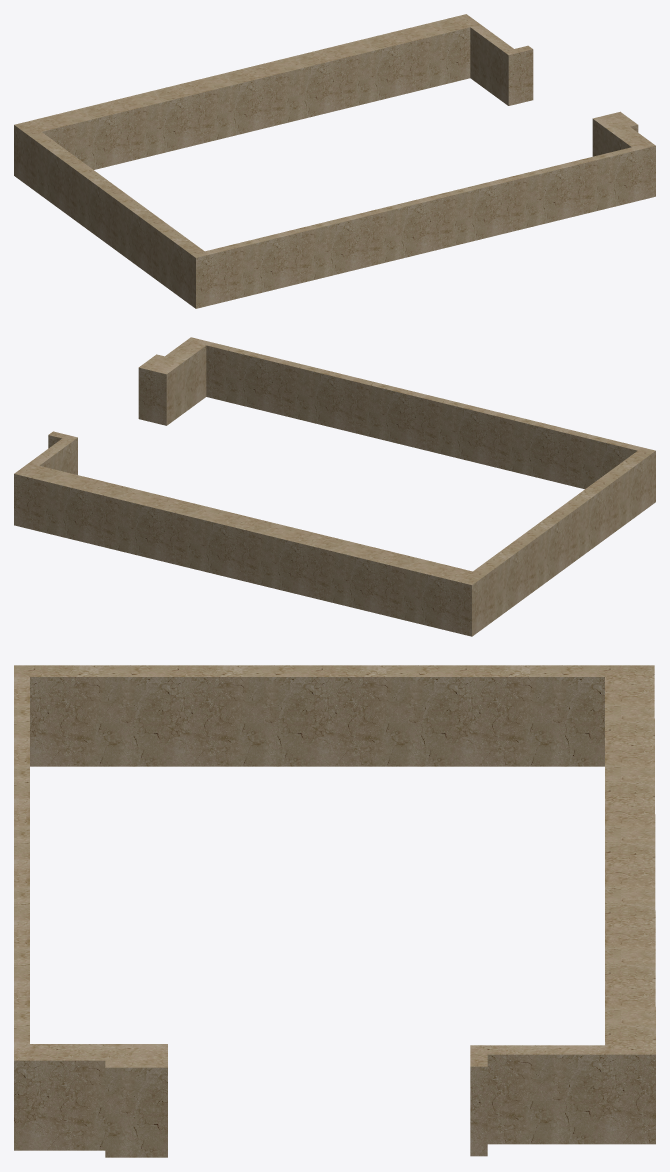
File: pasted__stone_column_976.fbx
3 renders of one model, top to bottom at view 1: azimuth 30°, elevation 25°; view 2: azimuth 150°, elevation 25°; view 3: azimuth 270°, elevation 25°, orthographic. The views are drawn at different scales.
Parts seen in each view (by area): view 1: pasted__stone_column_976; view 2: pasted__stone_column_976; view 3: pasted__stone_column_976.
Part boxes in pixels (x1,y1,x2,y2): pasted__stone_column_976: (14, 14, 655, 308); pasted__stone_column_976: (14, 337, 655, 636); pasted__stone_column_976: (14, 665, 655, 1157).
Bounding box in the file's own units: 1985 × 1339 × 206.
